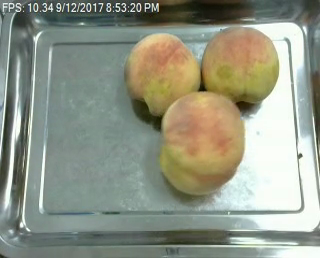Peach: (159, 90, 245, 195), (200, 24, 280, 106), (124, 32, 200, 116)
